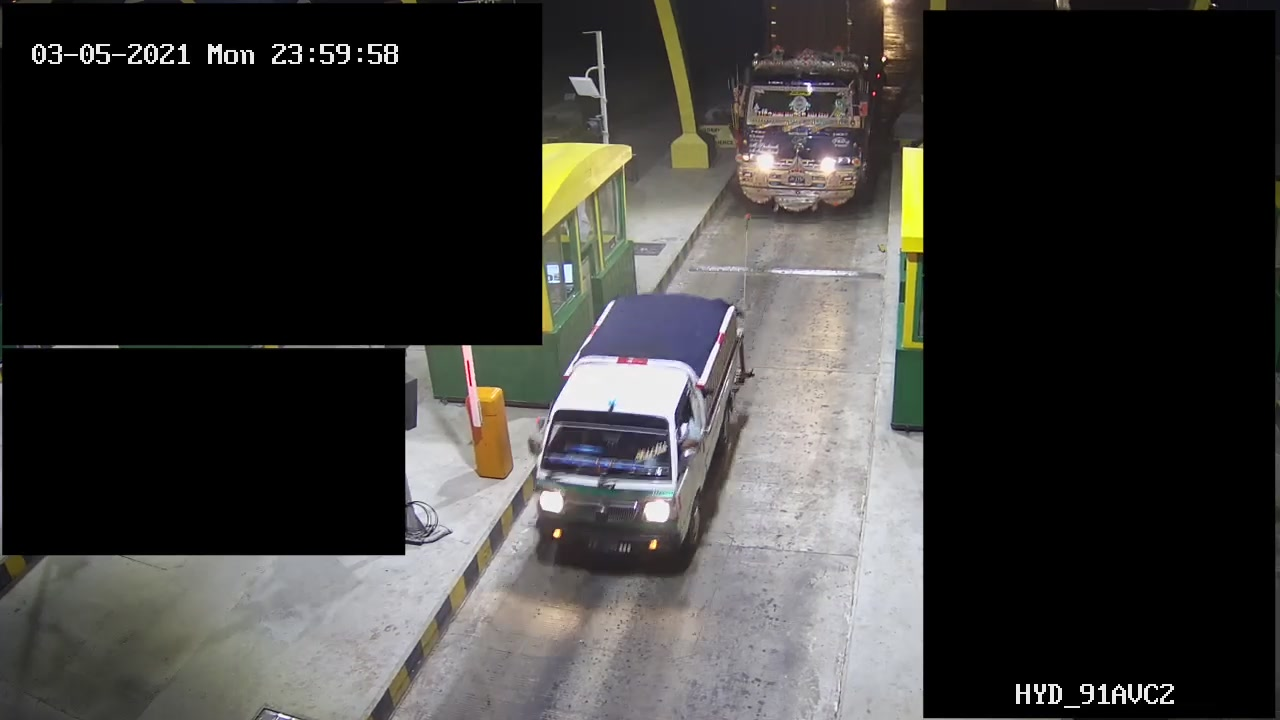F1: (524, 284, 752, 573)
